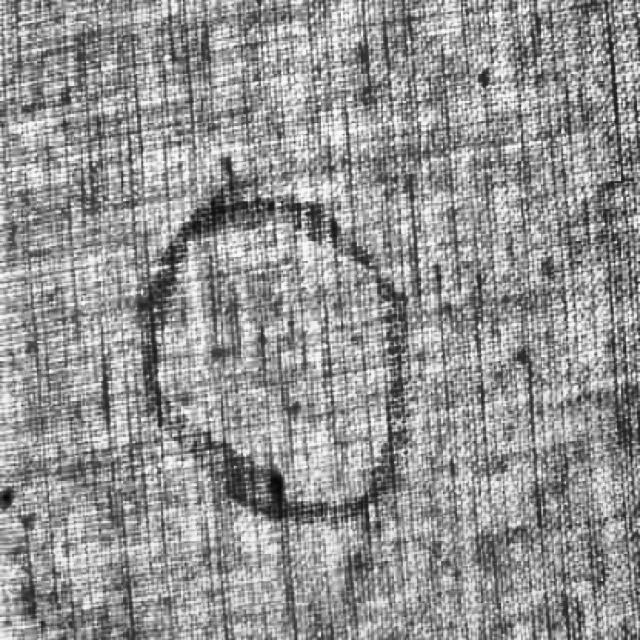oil_spot: (116, 164, 439, 547)
